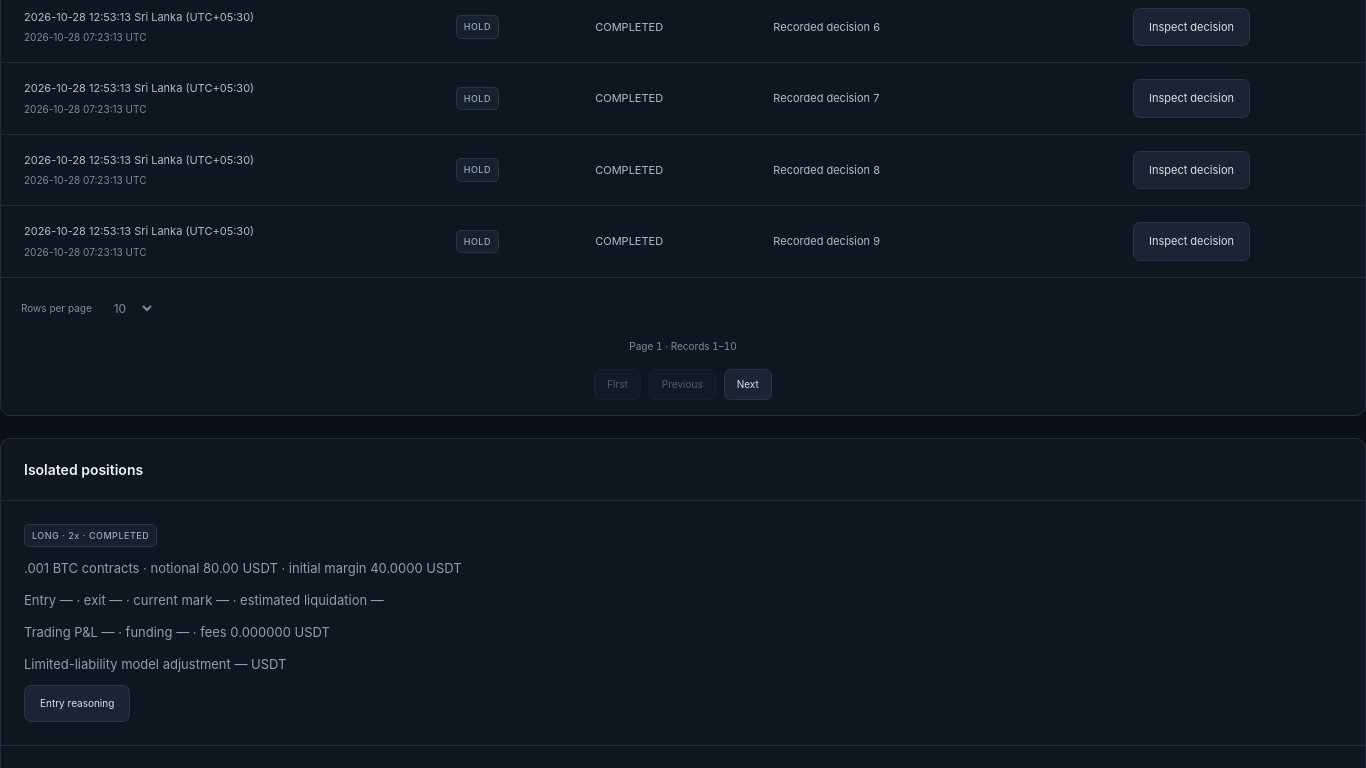
disables Next on an exactly full final page and resets after changing page size
(page scrolled)
Click the button "Next" at (748, 384), box [724,369,772,400]
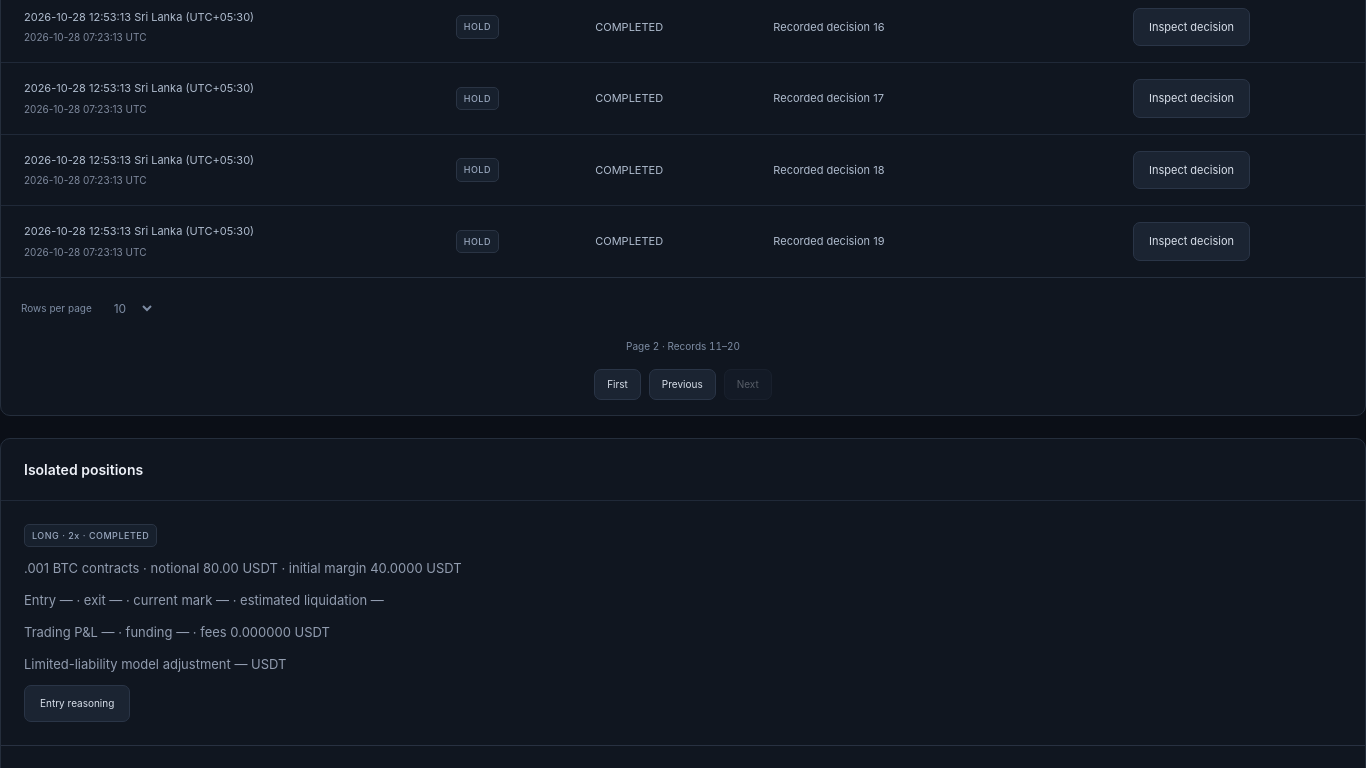
Expected: the text "Recorded decision 19" is shown, [750,206,1110,277]
Expected: the button "Next" is disabled, [724,369,772,400]
Select "25" in the dropdown named "Decision journal rows per page" at (127, 308), box [100,293,155,324]
(page scrolled)
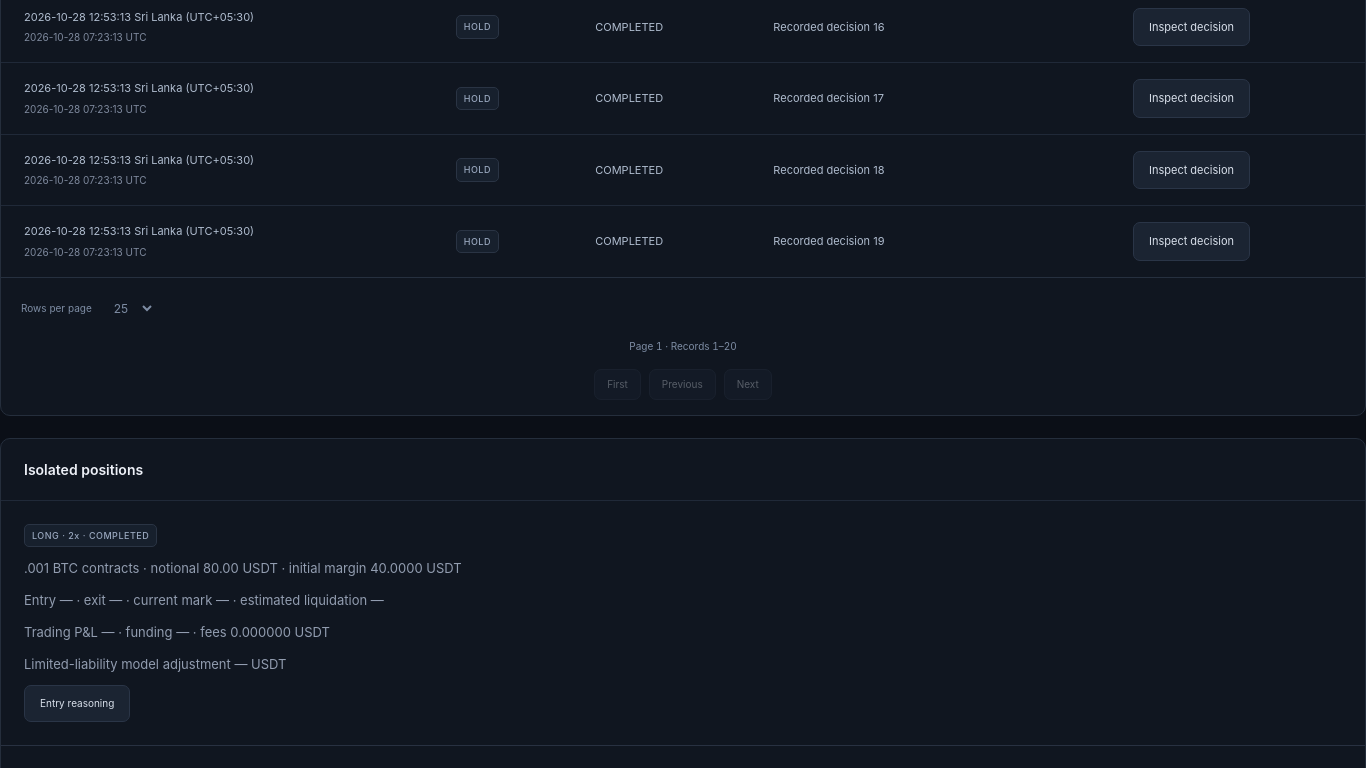
Expected: the button "Next" is disabled, [724,369,772,400]
Expected: the message reads "Page 1 · Records 1–20", [629,339,737,354]
Expected: the button "First" is disabled, [594,369,641,400]
